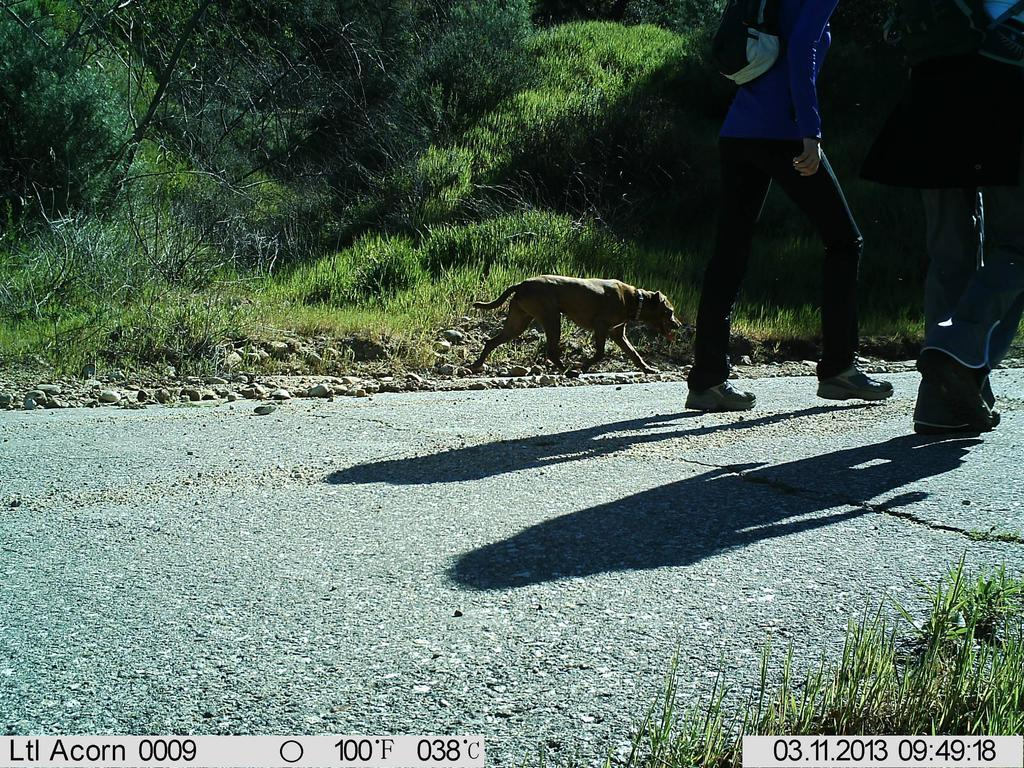dog: (463, 271, 687, 383)
